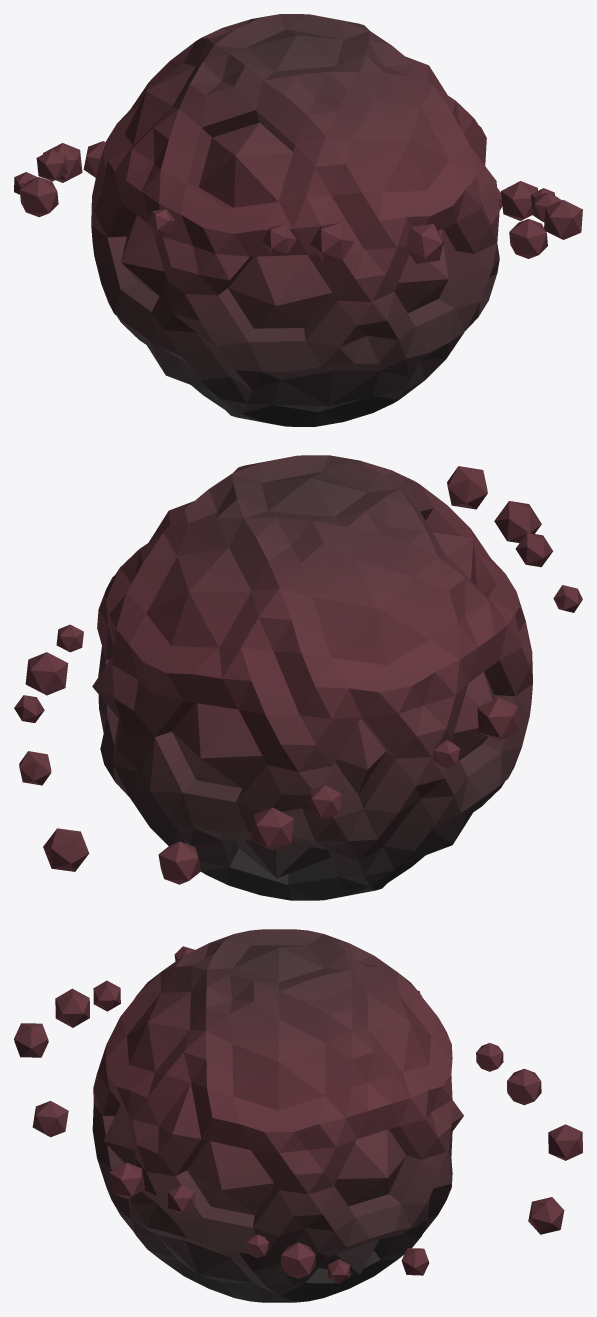
File: Rocky_Planet_Stage1.FBX
The picture shows the model from 3 angles, top to bottom: view 1: azimuth 30°, elevation 25°; view 2: azimuth 150°, elevation 25°; view 3: azimuth 270°, elevation 25°; orthographic projection. The views are drawn at different scales.
Parts seen in each view (by area): view 1: Rocky_Planet_Stage_1; view 2: Rocky_Planet_Stage_1; view 3: Rocky_Planet_Stage_1.
Boxes of the visible parts, bbox=[...] form: Rocky_Planet_Stage_1: bbox=[14, 14, 582, 426]; Rocky_Planet_Stage_1: bbox=[14, 455, 582, 900]; Rocky_Planet_Stage_1: bbox=[14, 929, 582, 1302].
Bounding box in the file's own units: 160 × 117 × 180.
2 materials, 2 textured.
